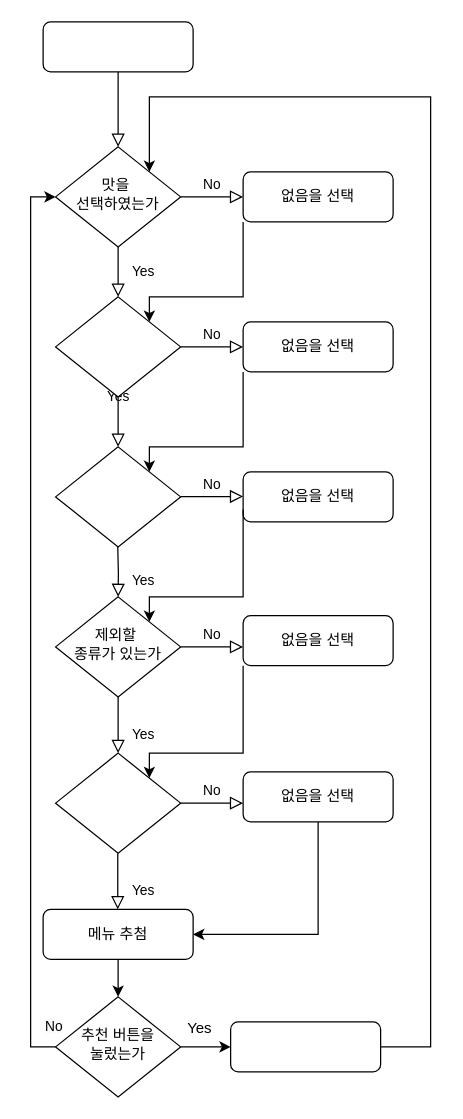
This 463x1119 diagram has some shape labels left out. The shapes that lost their labels are listed below. From the top down, each one's centre as x and y in pixels, then its label:
point (117, 46): 프로그램 실행
point (117, 346): 종류 선택하였는가
point (117, 496): 가격을 적었는가
point (117, 802): 위치를 선택하였는가
point (305, 1046): 추천 증가
